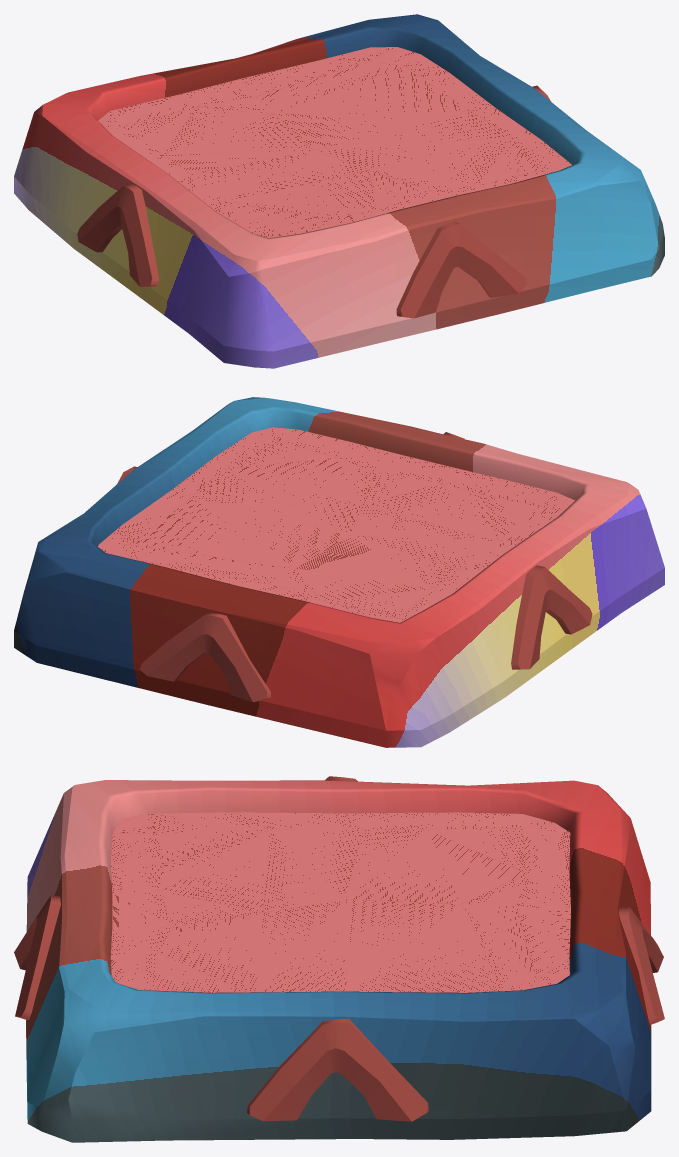
The model's file is Prop_AP30ChallengeBouncePad_Level2.glb.
3 renders of one model, top to bottom at view 1: azimuth 30°, elevation 25°; view 2: azimuth 150°, elevation 25°; view 3: azimuth 270°, elevation 25°, orthographic. The views are drawn at different scales.
Parts seen in each view (by area): view 1: Prop_AP30ChallengeBouncePad_Level2; view 2: Prop_AP30ChallengeBouncePad_Level2; view 3: Prop_AP30ChallengeBouncePad_Level2.
Part boxes in pixels (x1,y1,x2,y2): Prop_AP30ChallengeBouncePad_Level2: [14, 14, 664, 368]; Prop_AP30ChallengeBouncePad_Level2: [14, 397, 664, 747]; Prop_AP30ChallengeBouncePad_Level2: [14, 776, 664, 1142].
Bounding box in the file's own units: 1.03 × 0.2124 × 1.05.
1 material, 1 textured.
